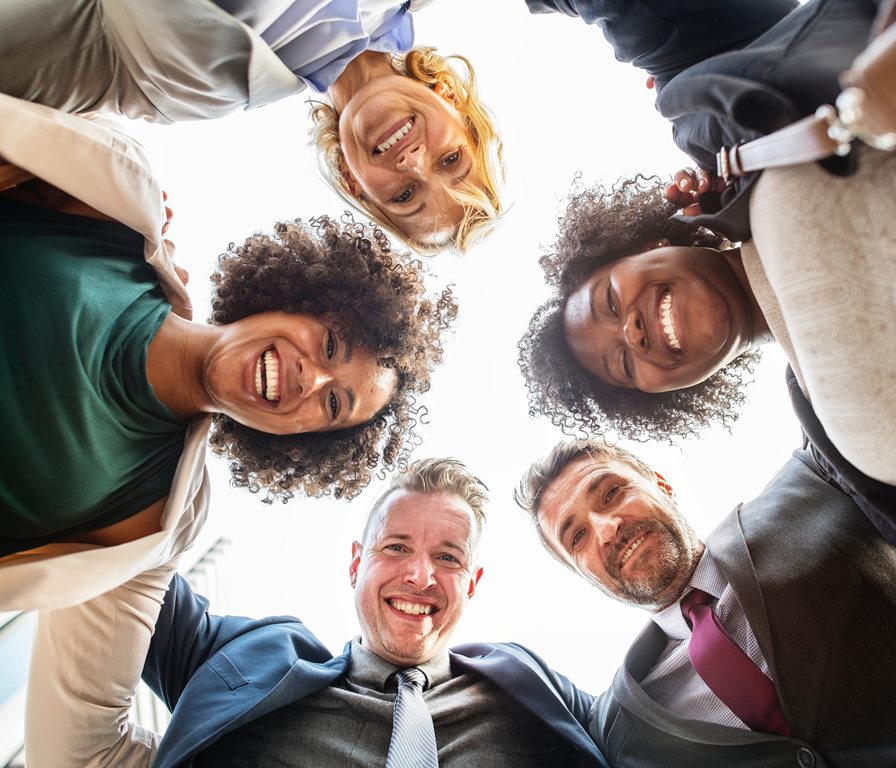without_mask: (341, 84, 484, 226), (223, 331, 378, 427), (545, 470, 671, 582), (577, 284, 717, 383), (379, 520, 467, 647)
